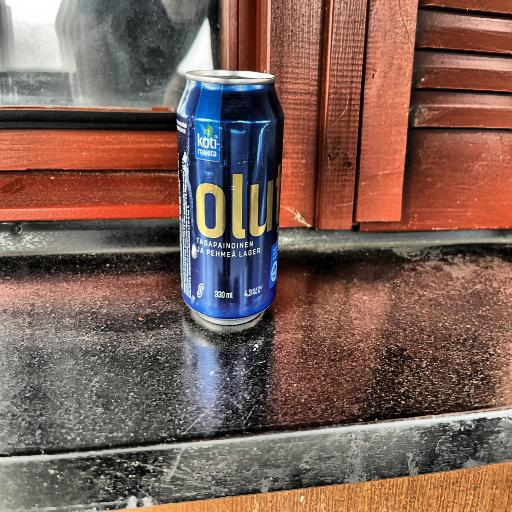koti: (172, 60, 285, 329)
